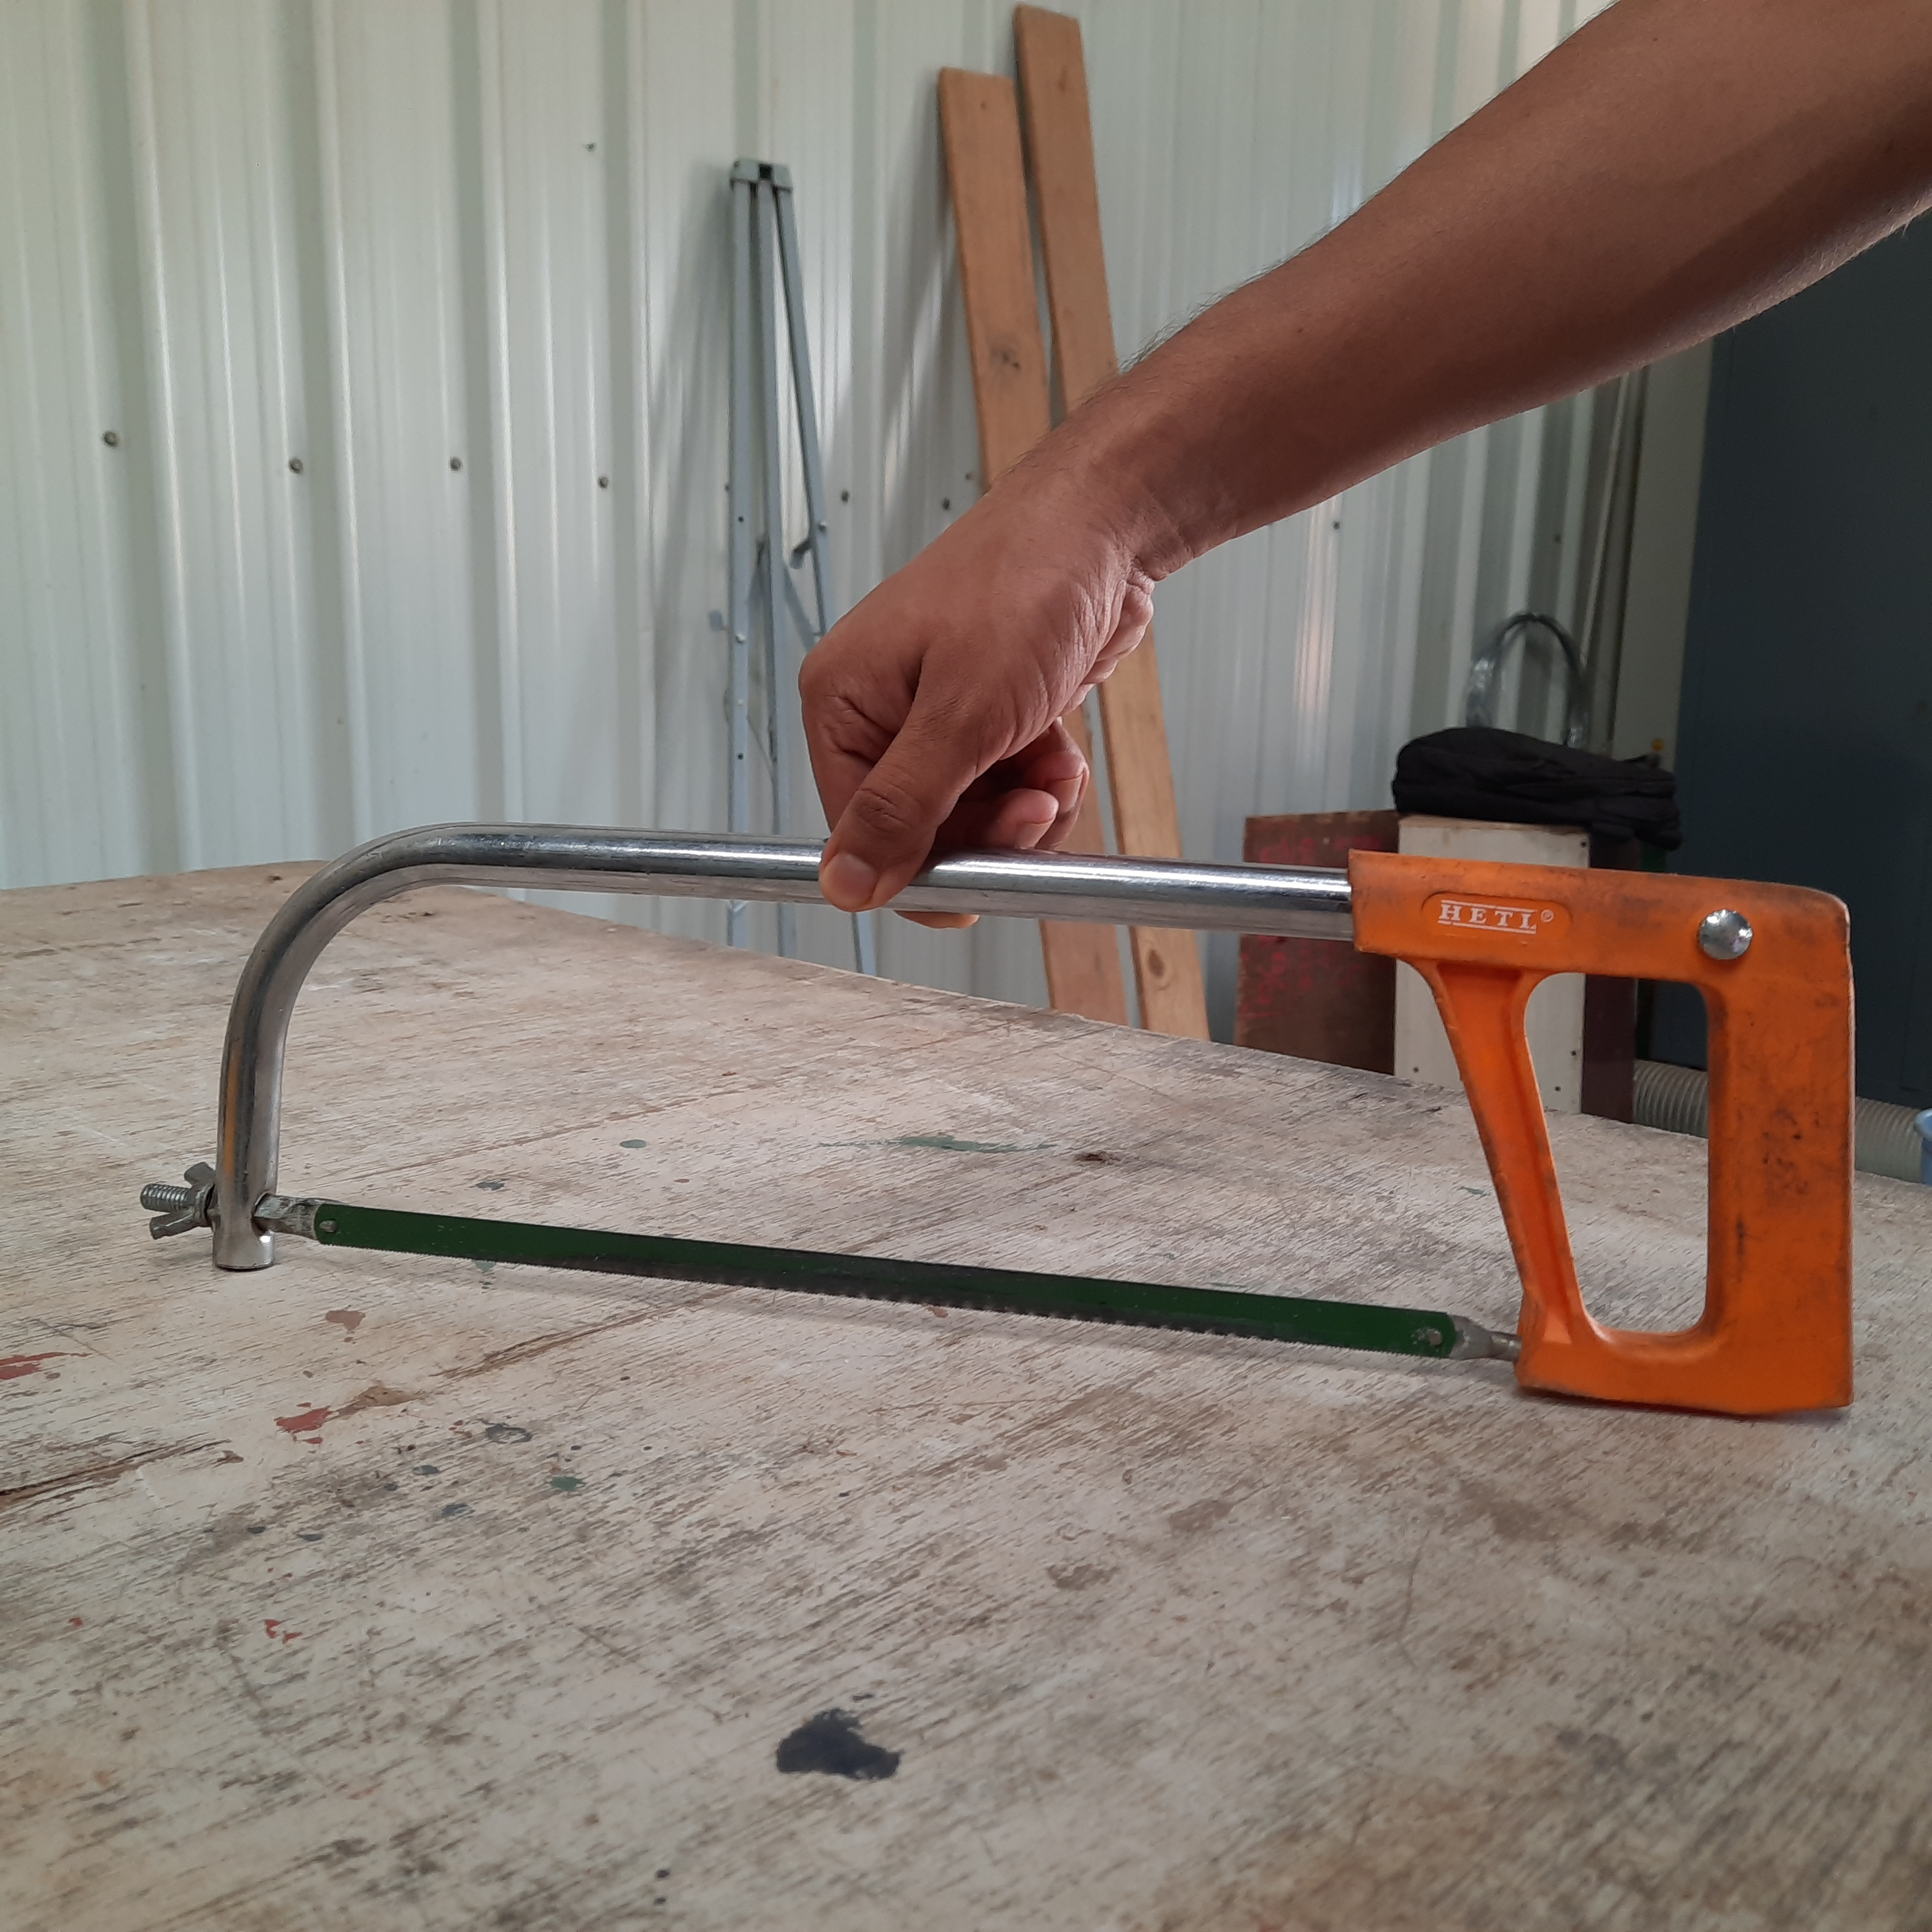Hexaframe: (156, 793, 1888, 1456)
